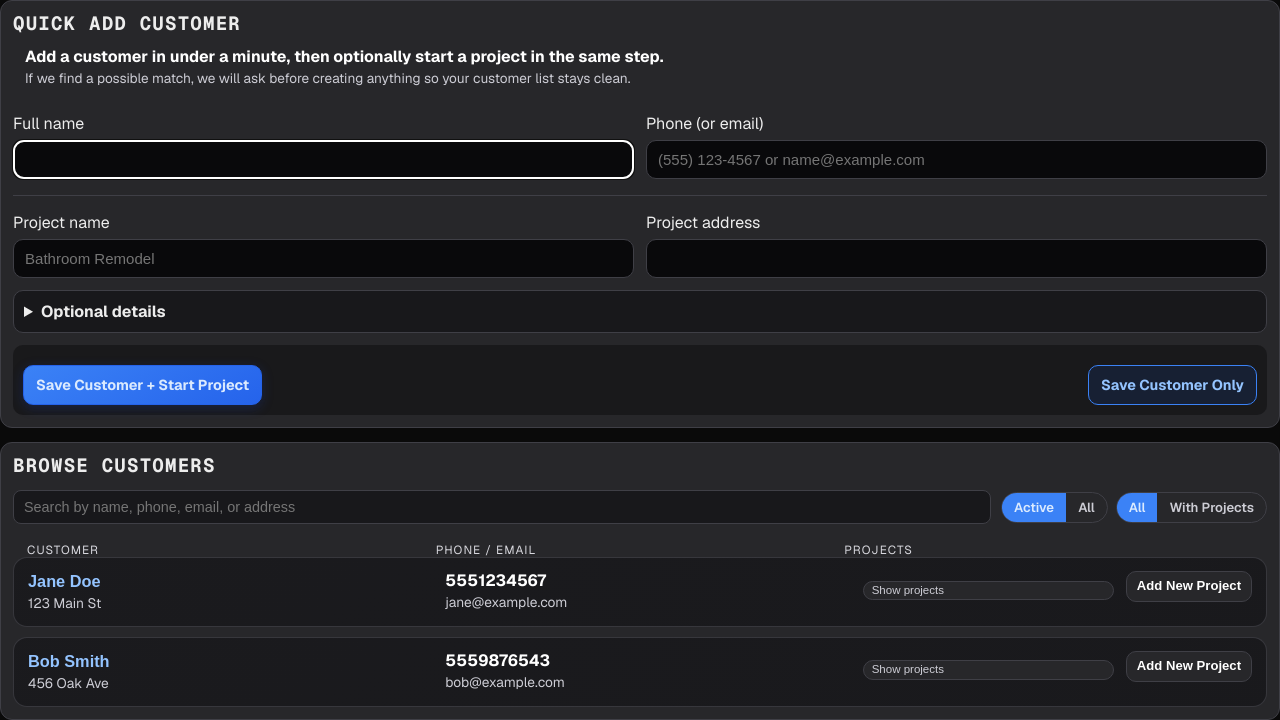
Test: CustomersConsole › closes edit modal on Close button click
Click the button "Jane Doe" at (64, 582), box x1=28 y1=572 x2=100 y2=592
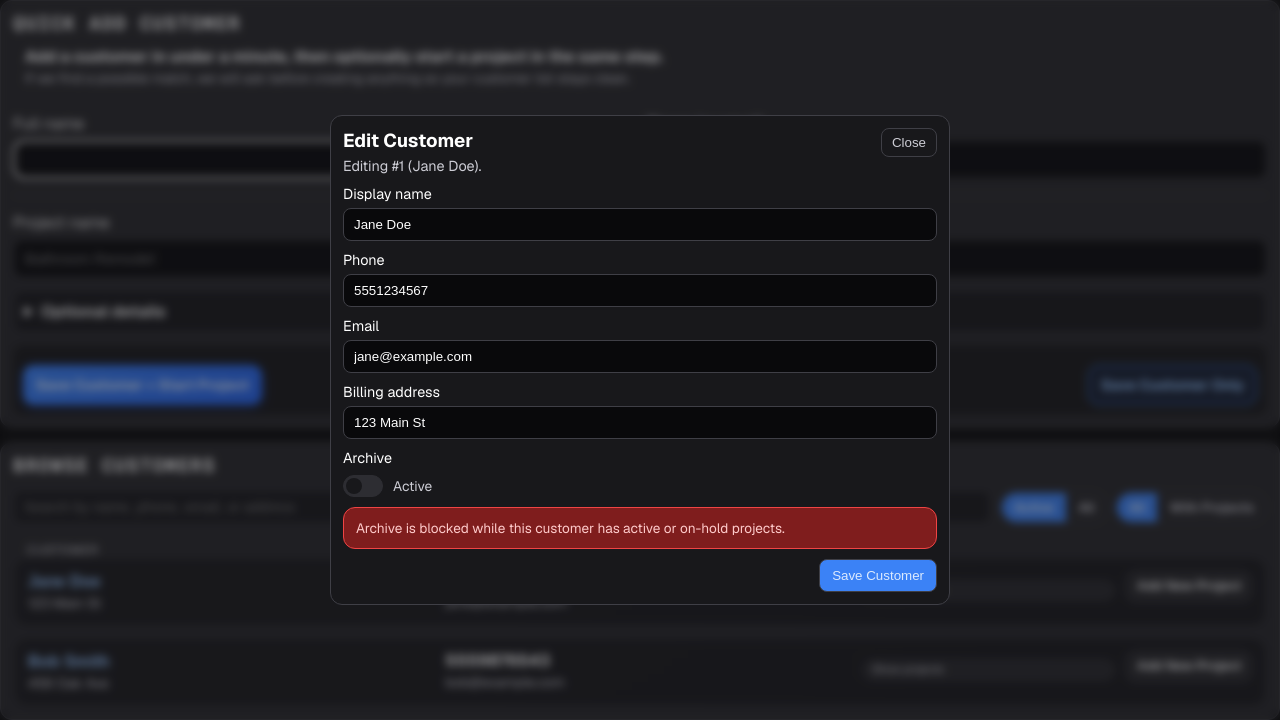
Expected: the heading "Edit Customer" is shown, x1=343 y1=128 x2=473 y2=153
Click the button "Close" at (909, 142), box x1=881 y1=128 x2=937 y2=157
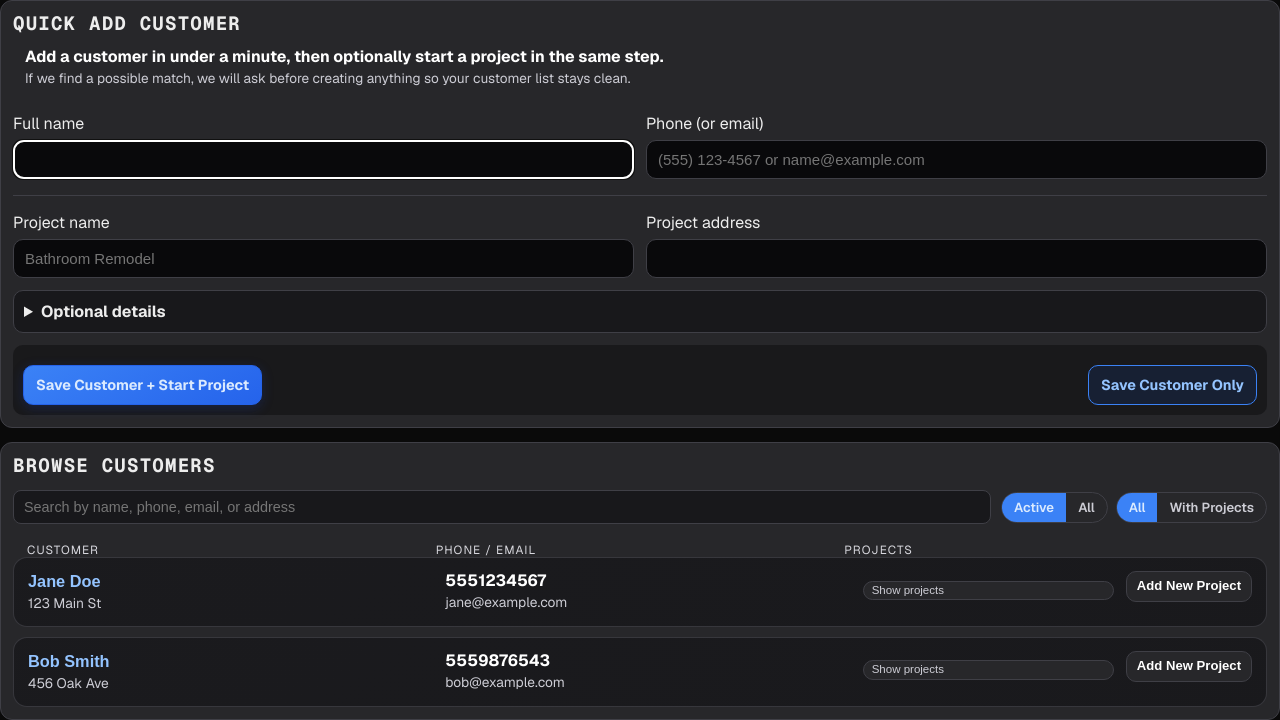
Expected: the heading "Edit Customer" is gone
